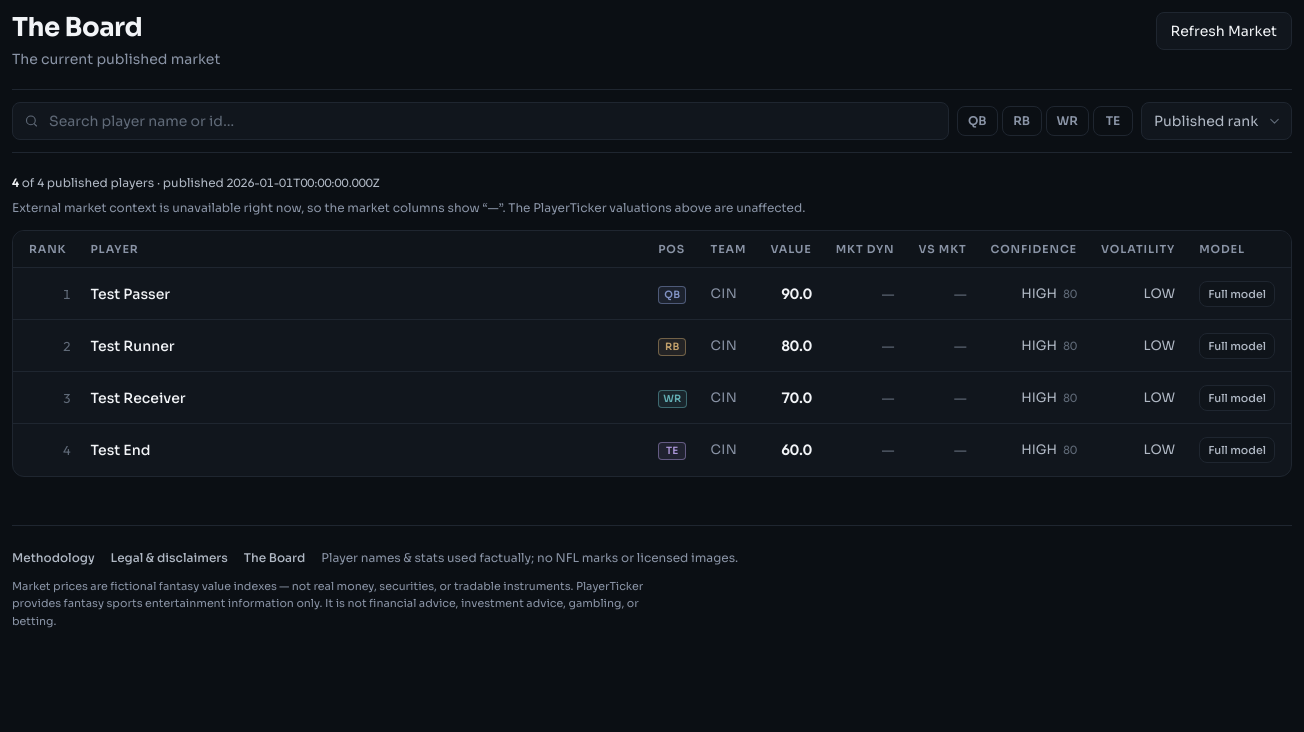
Test: The Board — search, filters and sorting over published data › supports selecting more than one position at once
The width and height of the screenshot is (1304, 732).
Click the button "QB".
click(977, 120)  # box [957,106,998,136]
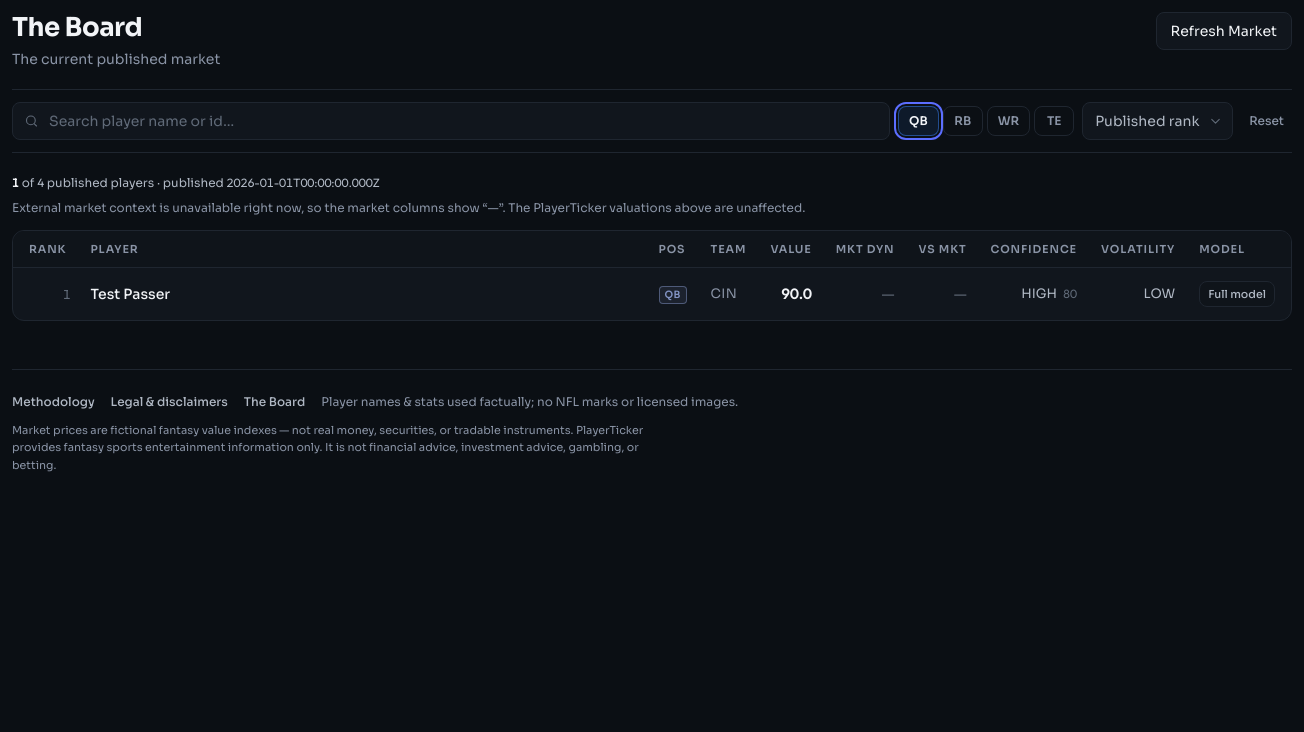
Click the button "TE".
click(1054, 120)  # box [1034,106,1074,136]
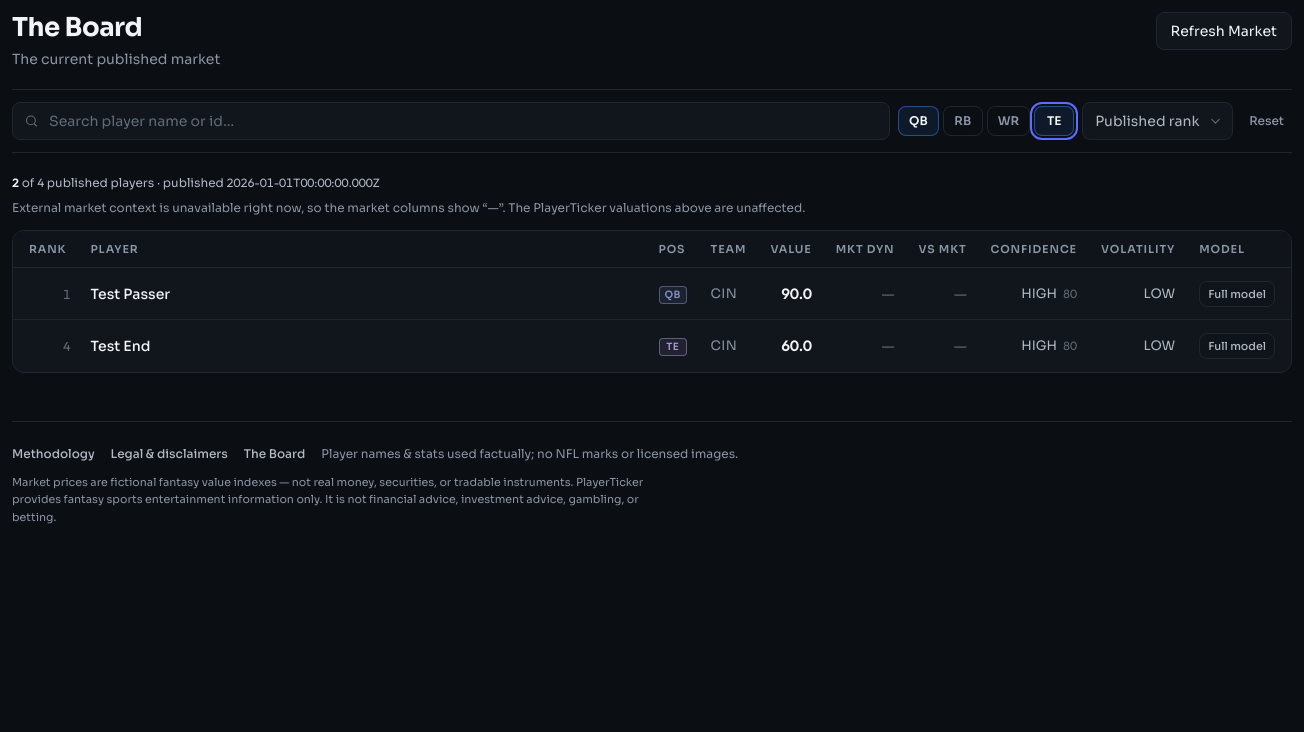
Expected: the message shows "2 of 4 published players", [12,174,380,190]
